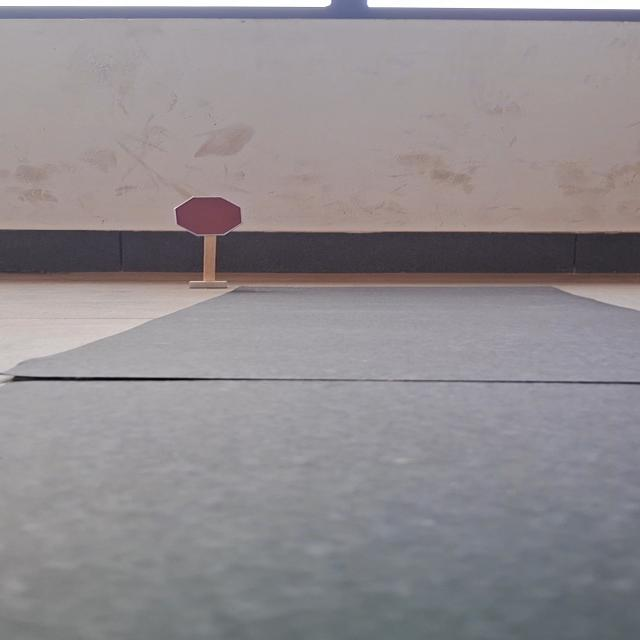Stop: (174, 196, 244, 237)
